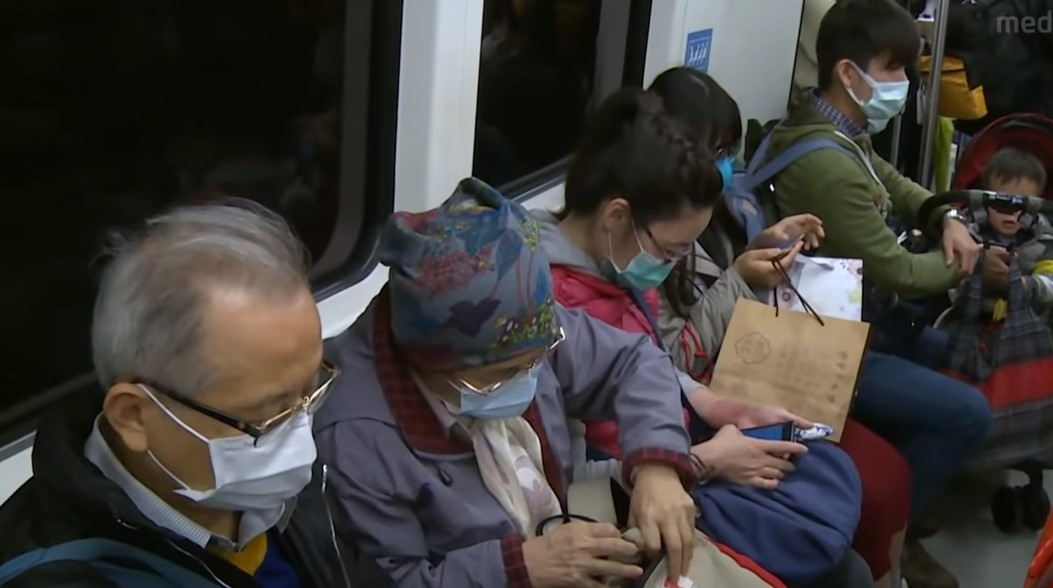face_with_mask: (97, 202, 347, 534), (587, 125, 724, 299), (404, 289, 565, 424), (811, 0, 929, 141)
